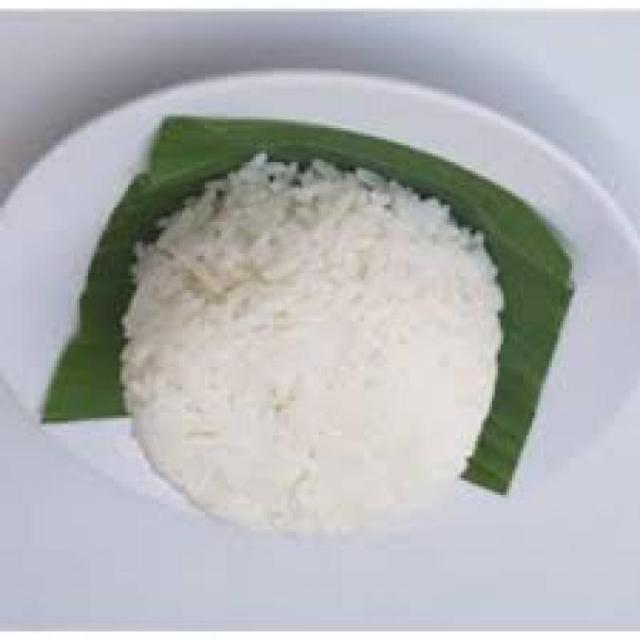nasi_putih: (120, 154, 506, 538)
